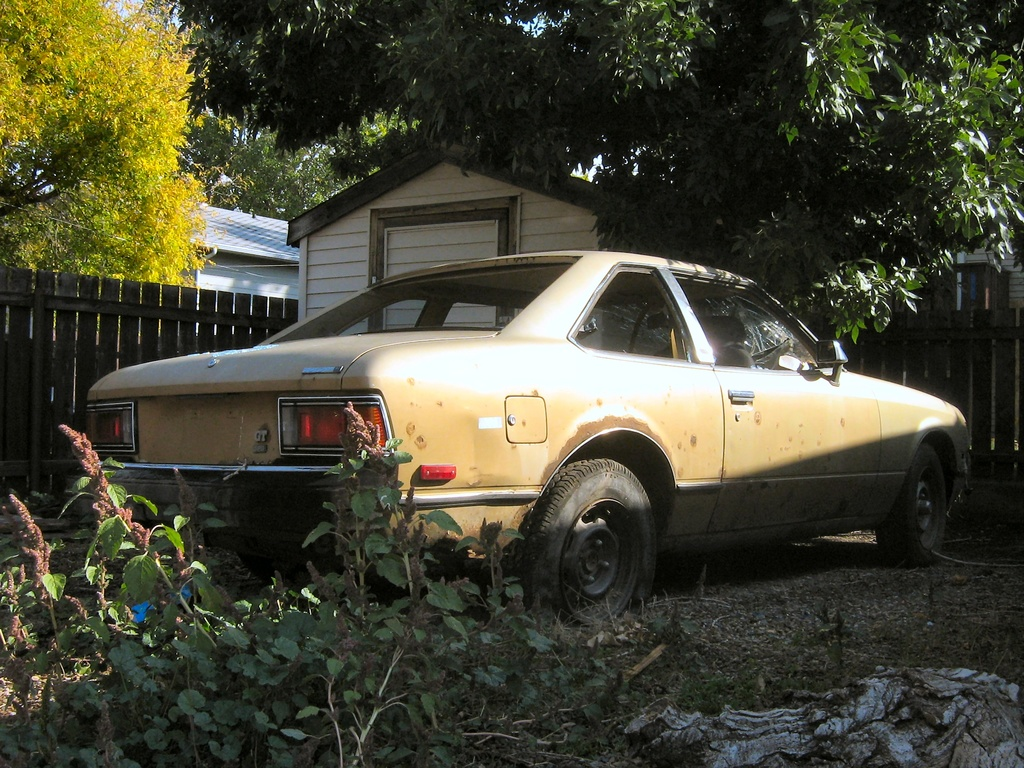mobil: (92, 254, 983, 612)
